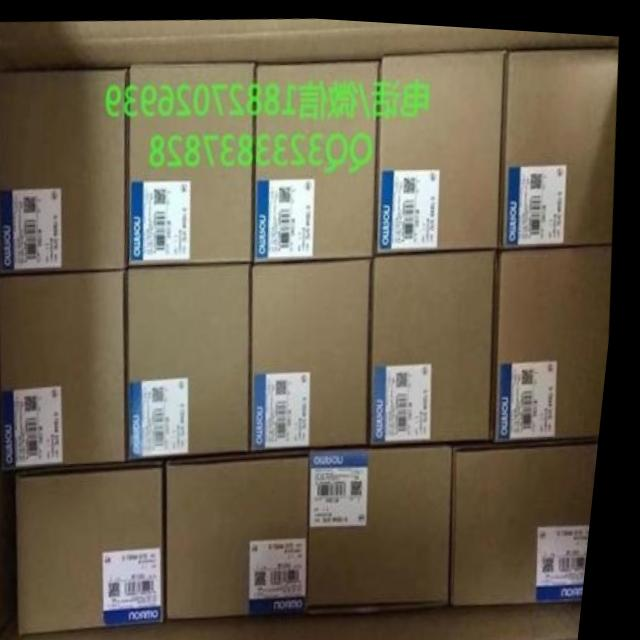box: (0, 66, 132, 272), (25, 460, 178, 636), (3, 268, 135, 470), (130, 58, 258, 264), (379, 42, 505, 248), (132, 260, 258, 459), (257, 55, 379, 260), (374, 244, 500, 440), (318, 439, 460, 610), (461, 434, 606, 600), (176, 446, 318, 615), (503, 40, 618, 242), (499, 238, 616, 435), (258, 254, 375, 448)
